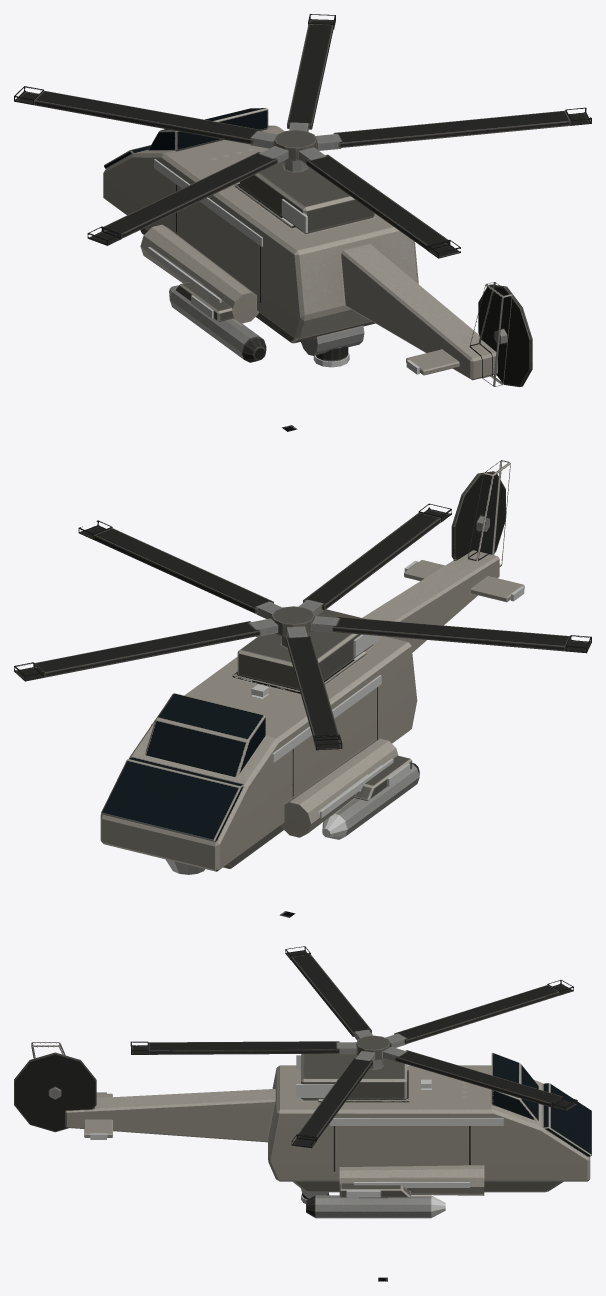
The model's file is ord_tidewatch.fbx.
3 renders of one model, top to bottom at view 1: azimuth 30°, elevation 25°; view 2: azimuth 150°, elevation 25°; view 3: azimuth 270°, elevation 25°, orthographic. The views are drawn at different scales.
Parts seen in each view (by area): view 1: base_bar, rotor_bar, tailRotor_bar, rack_bar, base_glow_running_bar; view 2: base_bar, rotor_bar, tailRotor_bar, rack_bar, base_glow_running_bar, rack_glow_weapon_bar; view 3: base_bar, rotor_bar, tailRotor_bar, rack_bar, base_glow_running_bar, rack_glow_weapon_bar.
Part boxes in pixels (x1,y1,x2,y2): base_bar: [103, 108, 512, 386]; rotor_bar: [14, 14, 591, 258]; tailRotor_bar: [478, 284, 532, 386]; rack_bar: [170, 282, 266, 362]; base_glow_running_bar: [148, 159, 419, 374]; base_bar: [100, 460, 524, 874]; rotor_bar: [14, 503, 591, 750]; tailRotor_bar: [451, 471, 505, 560]; rack_bar: [334, 755, 419, 835]; base_glow_running_bar: [151, 560, 524, 818]; rack_glow_weapon_bar: [322, 763, 410, 839]; base_bar: [31, 1042, 591, 1198]; rotor_bar: [130, 946, 577, 1148]; tailRotor_bar: [14, 1052, 96, 1132]; rack_bar: [306, 1183, 431, 1218]; base_glow_running_bar: [90, 1055, 503, 1187]; rack_glow_weapon_bar: [347, 1191, 445, 1217].
Size of the model in its own units: 970 by 542 by 1199.
Materials: 2 (2 with a texture image).
